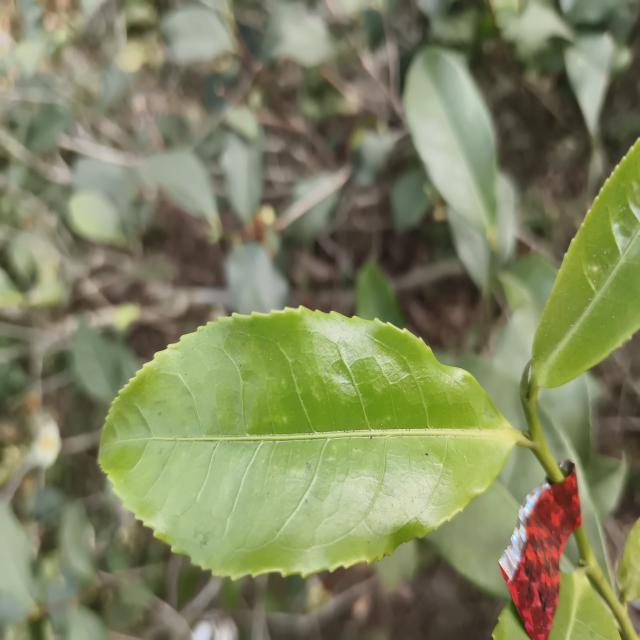Leaf: (99, 309, 528, 578), (532, 139, 640, 387), (403, 46, 498, 245), (426, 446, 546, 599), (538, 408, 611, 582), (141, 150, 220, 226), (548, 569, 620, 640), (464, 356, 528, 431), (71, 321, 129, 402), (225, 242, 289, 314), (161, 5, 234, 64), (220, 133, 264, 223), (0, 503, 34, 612), (356, 260, 405, 328), (68, 190, 126, 246), (25, 105, 72, 154), (492, 601, 526, 640)
